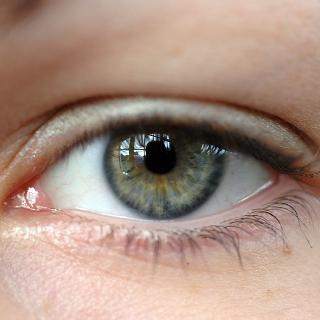pupil: (141, 137, 179, 175)
